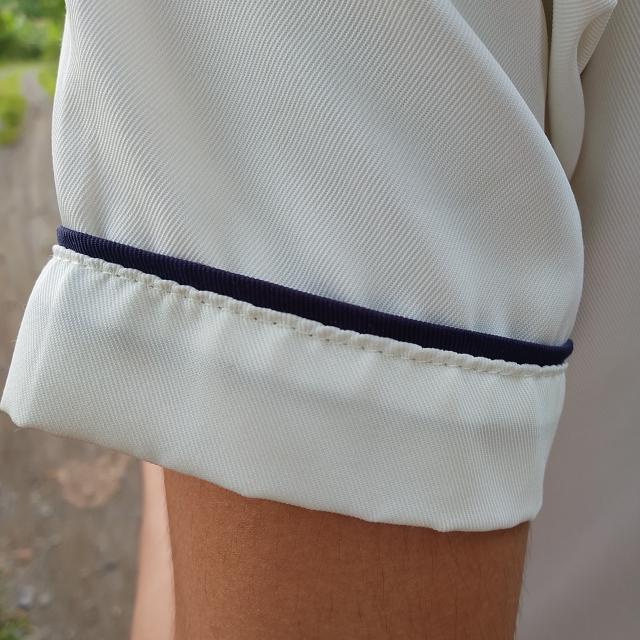education_male_uniform: (2, 5, 640, 563)
